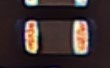COMP: (13, 15, 98, 59)
GAP: (24, 1, 88, 35)
